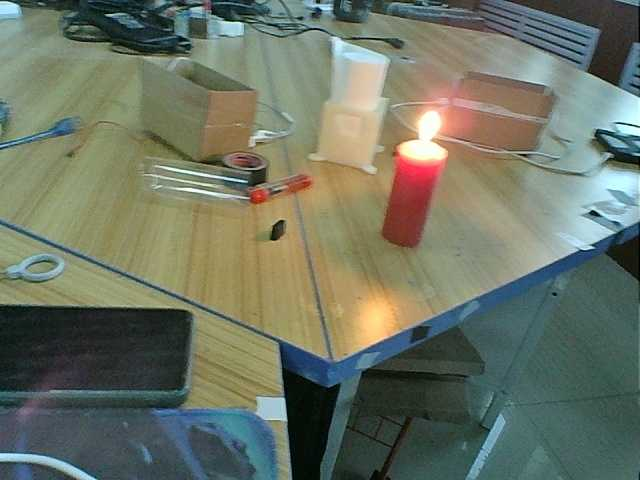candle: (375, 144, 450, 255)
fire: (393, 98, 452, 158)
